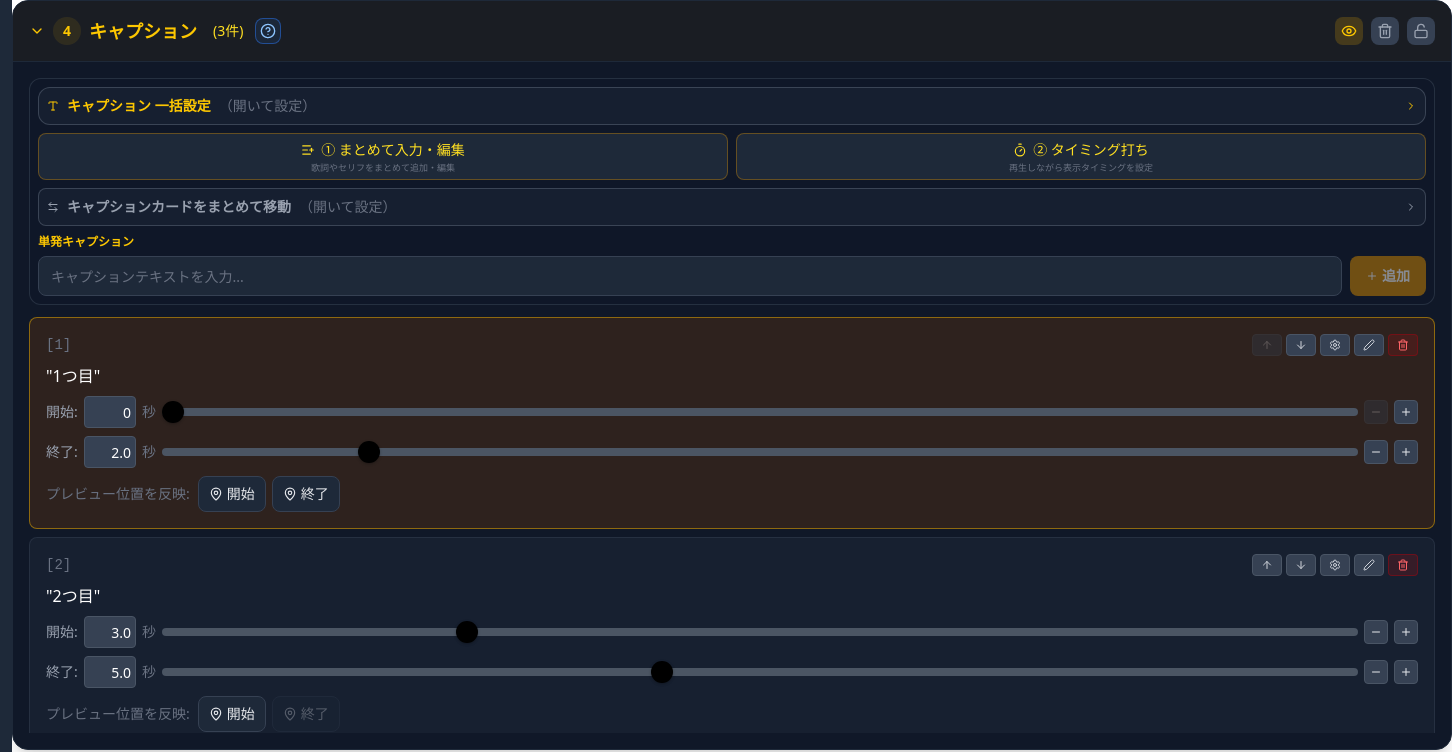
Test: タイミング打ちのプレビュー表示制御 › 開始直後は全件をプレビューから除外し、登録したテキストと時間は保持する
This screenshot has width=1452, height=752.
What coordinates should you click on to do the following:
click the button "② タイミング打ち 再生しながら表示タイミングを設定"
I would click on:
 (1081, 157)
Its box is [736,133,1426,180].
(page scrolled)
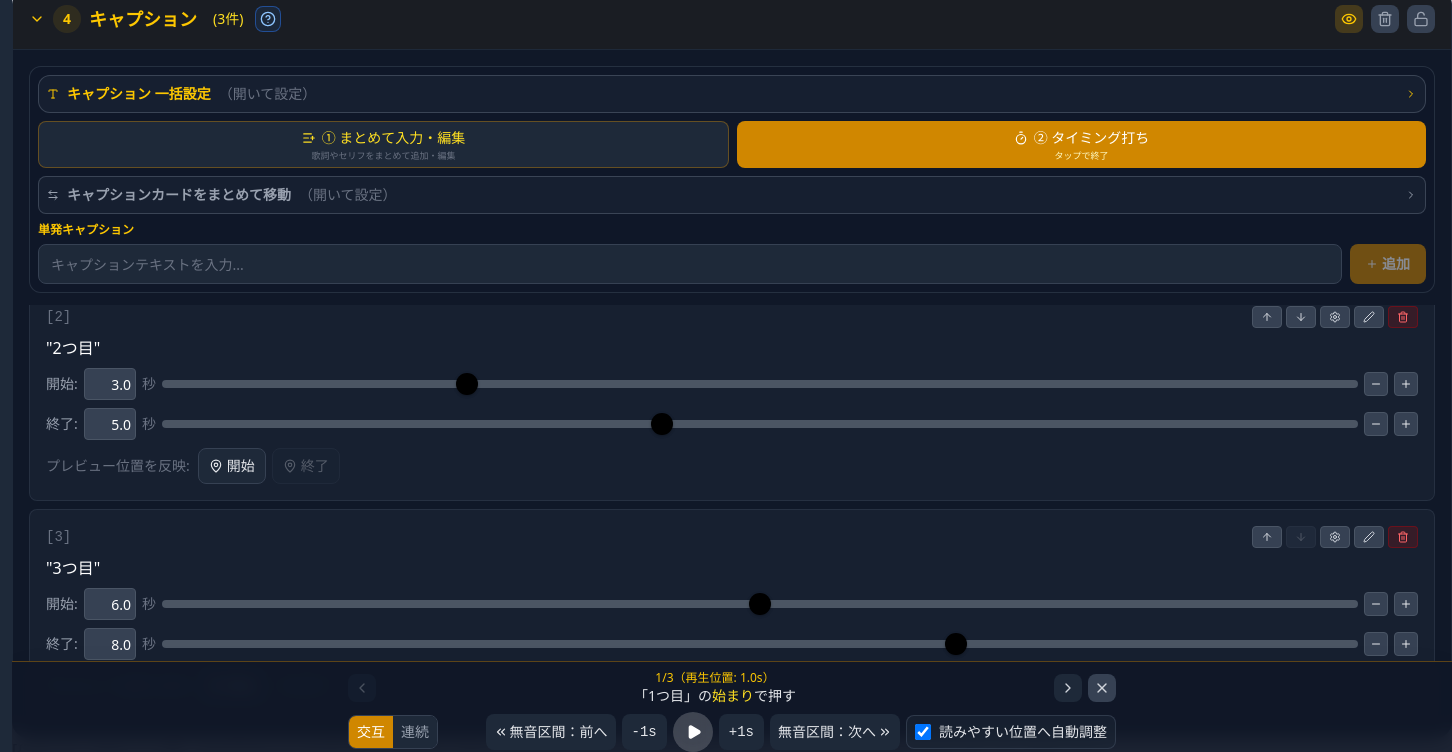
expect the text titled "2つ目" is shown: met, box [52,337,94,359]
expect the text titled "3つ目" is shown: met, box [52,557,94,579]
